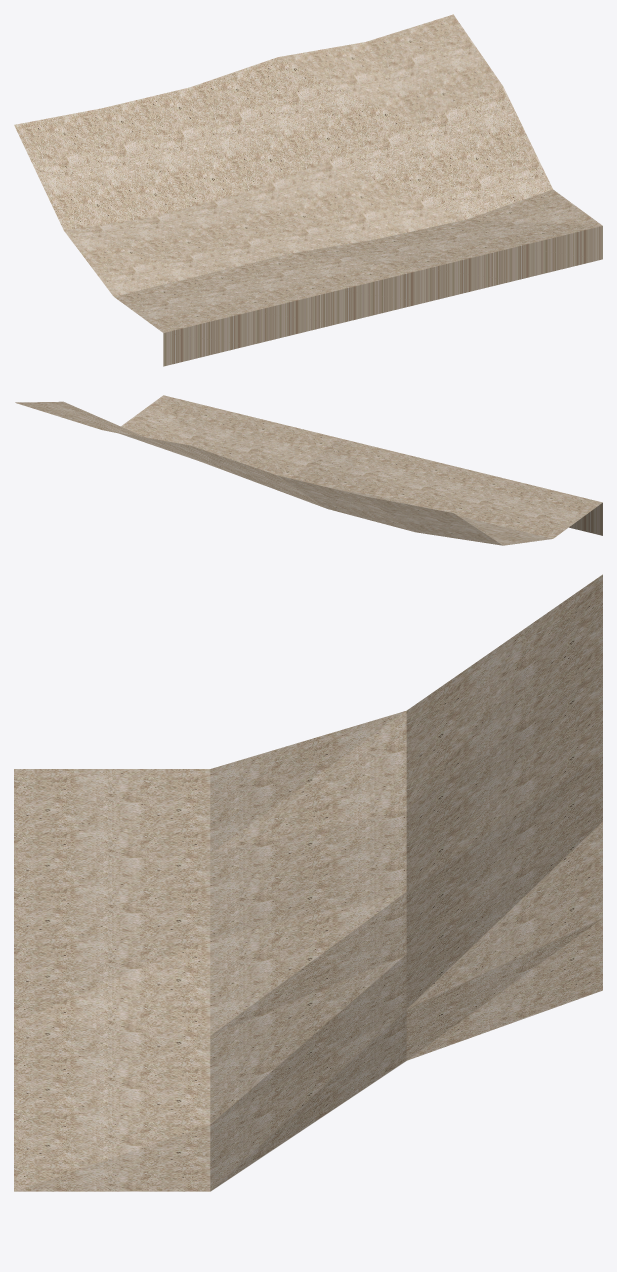
Rendered from sbcs_seabit_new.obj.
3 views of the same model, one above another, from view 1: azimuth 30°, elevation 25°; view 2: azimuth 150°, elevation 25°; view 3: azimuth 270°, elevation 25° (orthographic). The views are drawn at different scales.
Visible parts, largest first — view 1: sbcs_seabit_new; view 2: sbcs_seabit_new; view 3: sbcs_seabit_new.
Part boxes in pixels (x1,y1,x2,y2): sbcs_seabit_new: [14, 14, 602, 366]; sbcs_seabit_new: [15, 395, 602, 545]; sbcs_seabit_new: [14, 574, 602, 1191].
Size of the model in its own units: 229 by 67.49 by 135.
